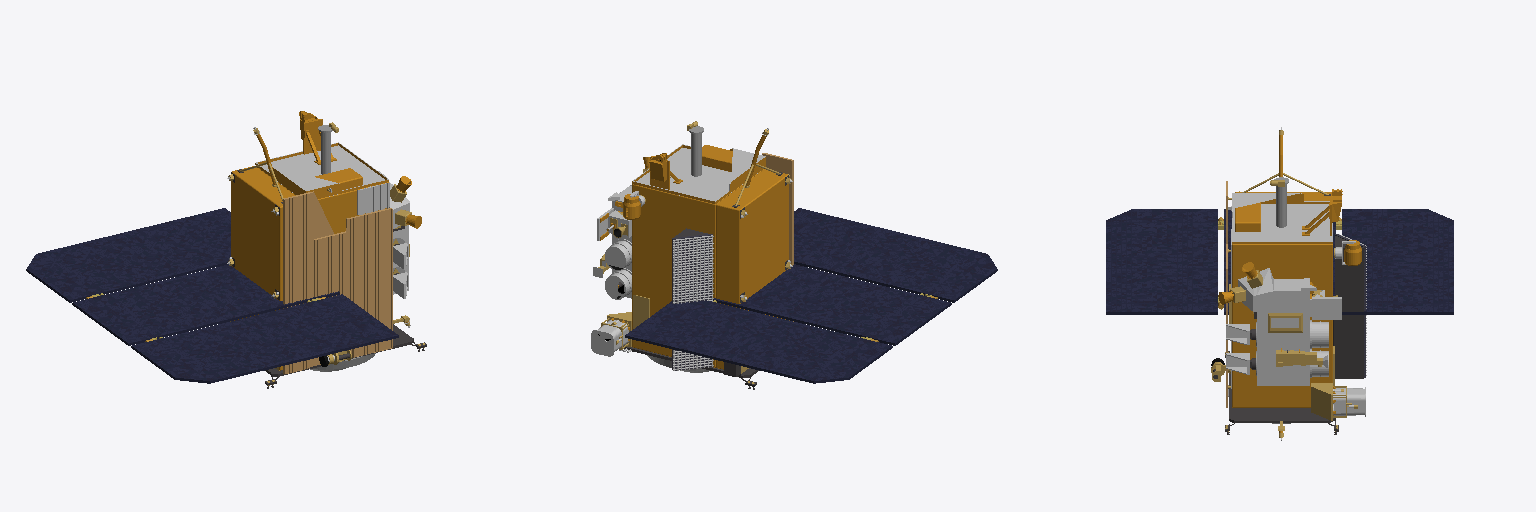
The model's file is LRO.obj.
3 renders of one model, left to right at view 1: azimuth 30°, elevation 25°; view 2: azimuth 150°, elevation 25°; view 3: azimuth 270°, elevation 25°, orthographic.
Parts seen in each view (by area): view 1: LRO; view 2: LRO; view 3: LRO.
Part boxes in pixels (x1,y1,x2,y2): LRO: (26, 111, 426, 388); LRO: (591, 121, 997, 389); LRO: (1106, 127, 1453, 440).
Size of the model in its own units: 1.19 by 0.9417 by 1.16.